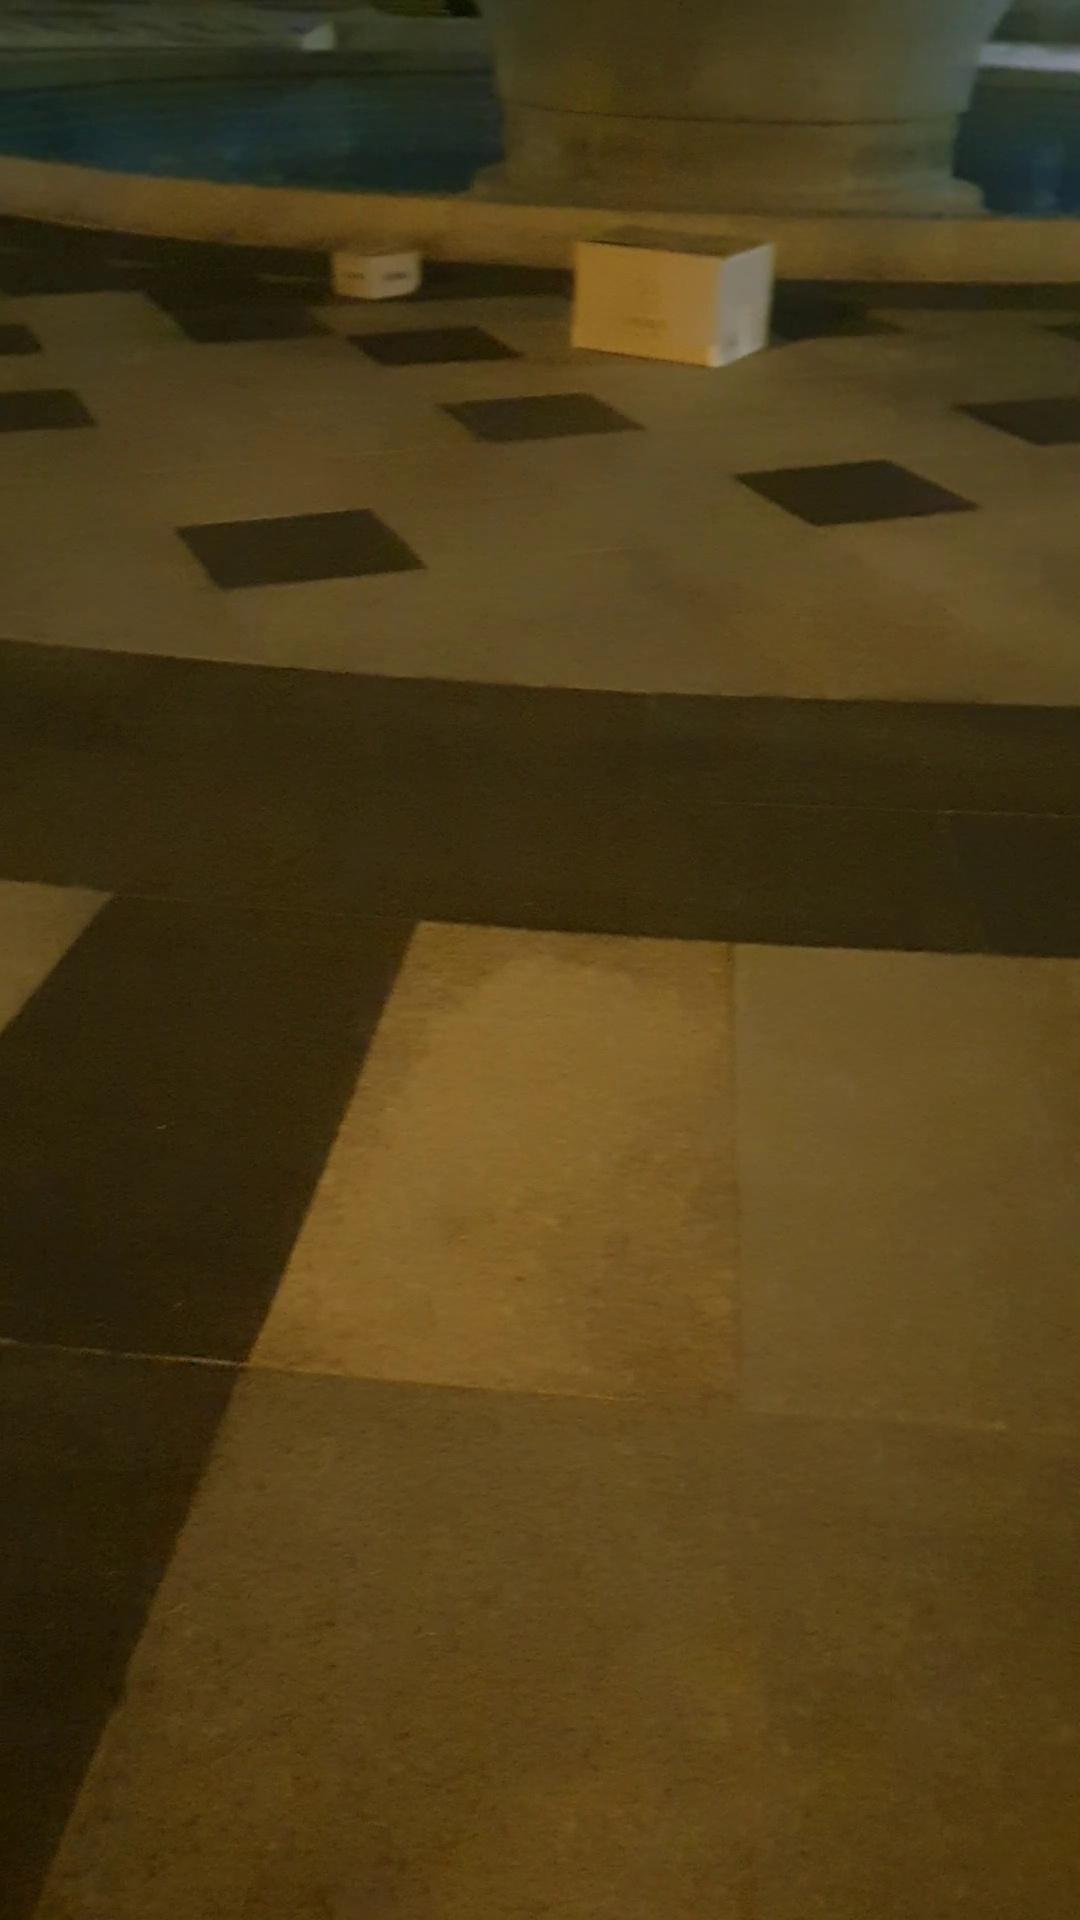Box: (560, 220, 795, 375), (311, 228, 450, 316)
